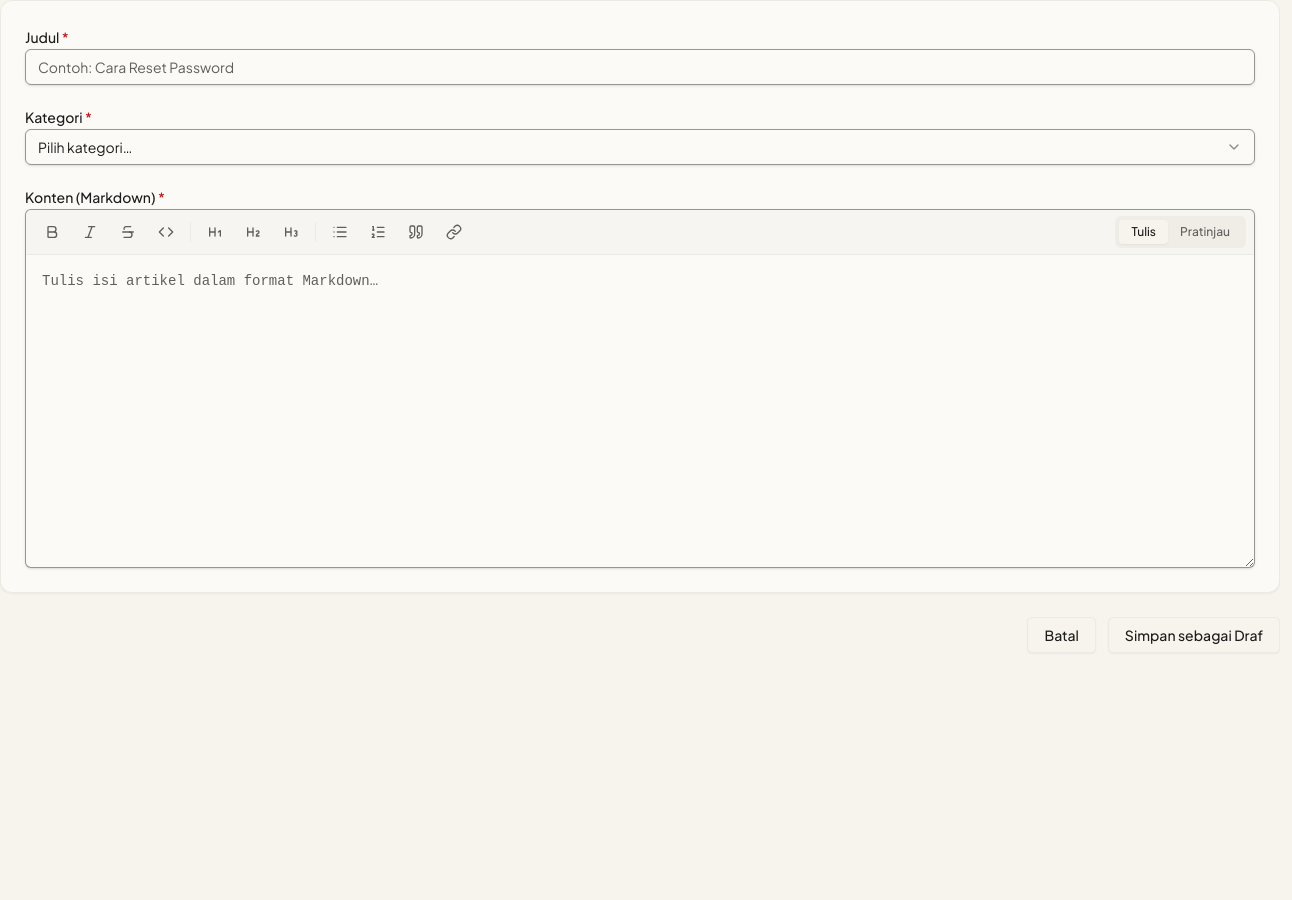
Test: ArticleEditor markdown toolbar › renders a live markdown preview when the Pratinjau tab is selected
Type "# Halo" into the text box labelled "Konten (Markdown) *" at [640, 411], box x1=26 y1=255 x2=1254 y2=567
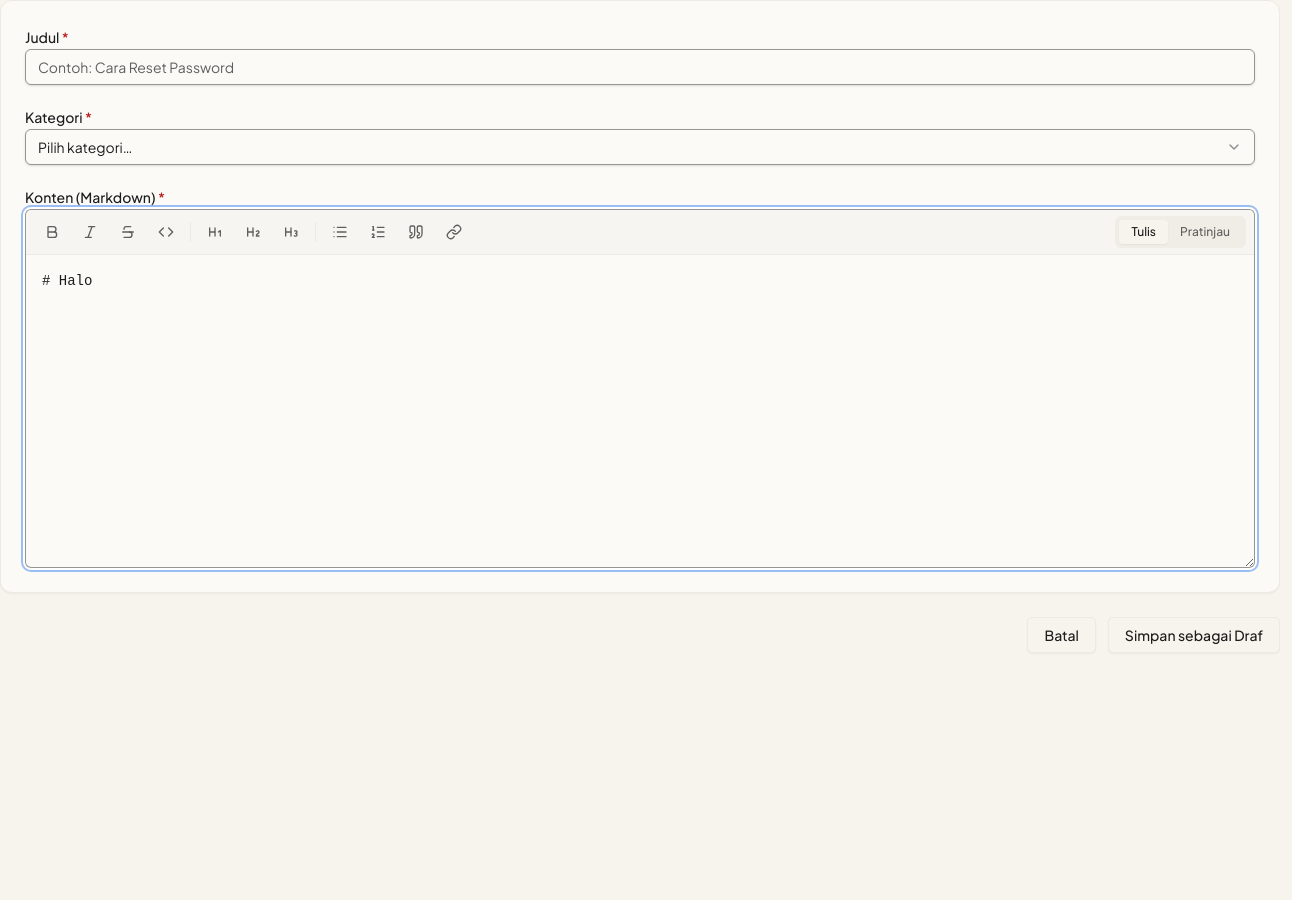
Click the tab "Pratinjau" at [1205, 232], box x1=1168 y1=220 x2=1242 y2=244
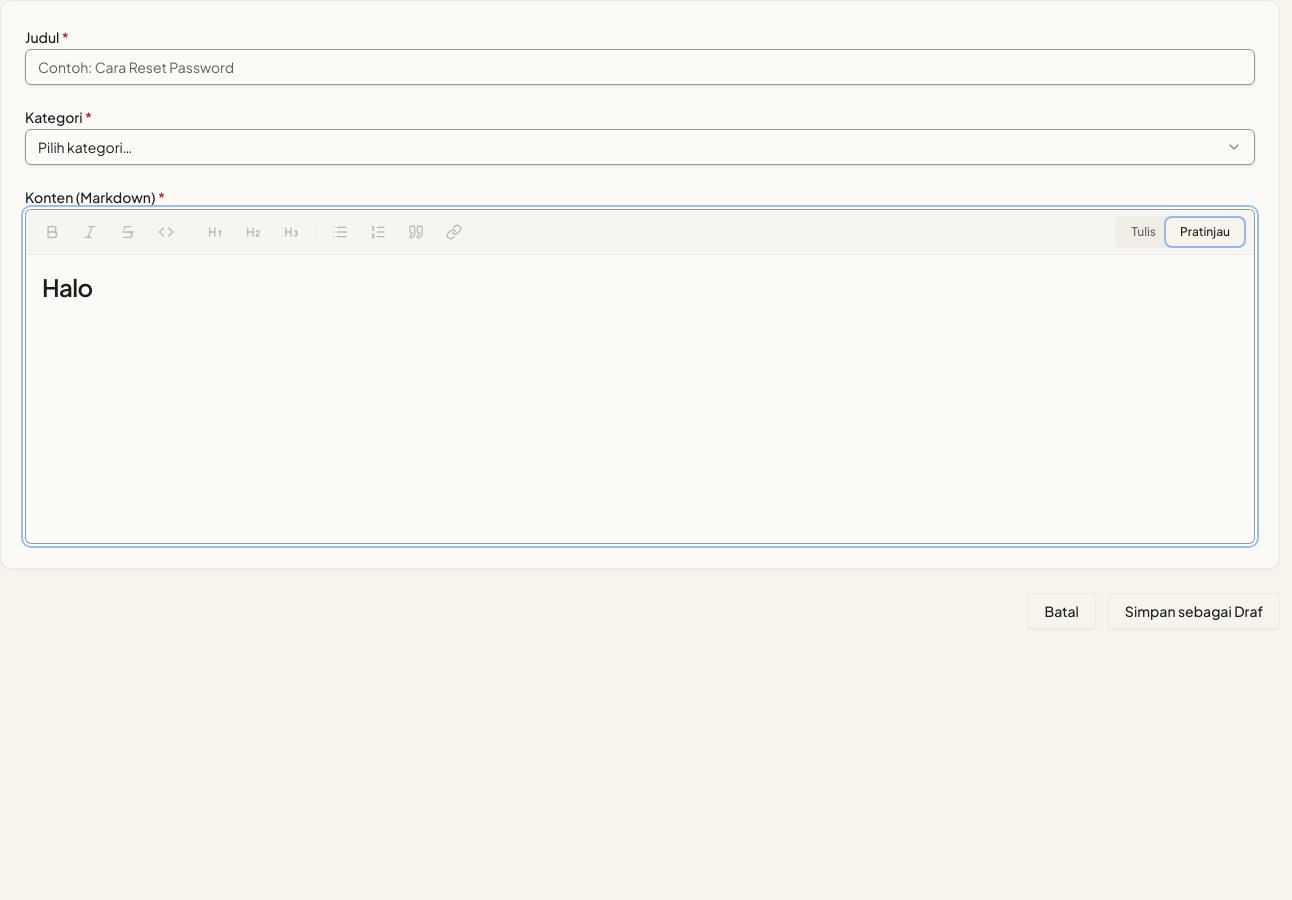
Expected: the heading "Halo" is shown, x1=42 y1=272 x2=93 y2=302
